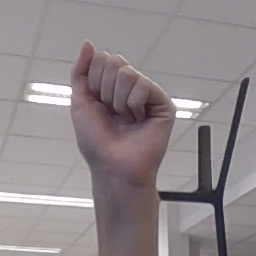A: (67, 37, 179, 186)
